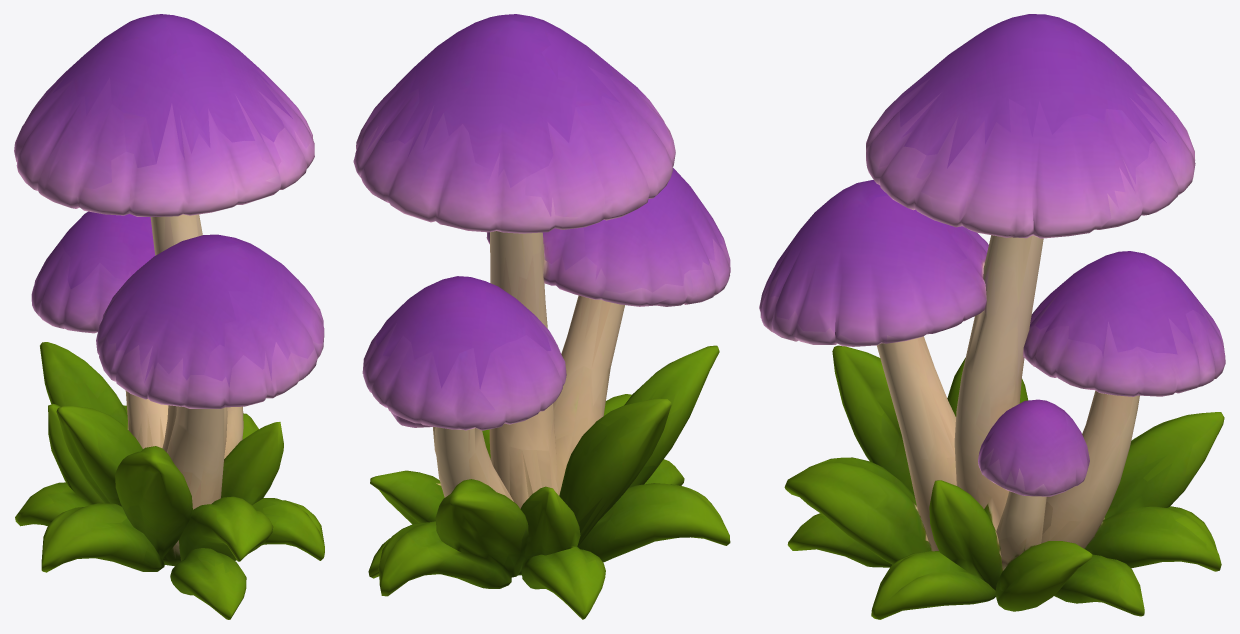
File: shroom_trio.glb
3 views of the same model, side by side, from view 1: azimuth 30°, elevation 25°; view 2: azimuth 150°, elevation 25°; view 3: azimuth 270°, elevation 25° (orthographic). The views are drawn at different scales.
Visible parts, largest first — view 1: tripo_node_9b7cfc15-bb2b-4e35-a10b-a96a65b3b9af; view 2: tripo_node_9b7cfc15-bb2b-4e35-a10b-a96a65b3b9af; view 3: tripo_node_9b7cfc15-bb2b-4e35-a10b-a96a65b3b9af.
Boxes of the visible parts, <box> form: tripo_node_9b7cfc15-bb2b-4e35-a10b-a96a65b3b9af: <box>14,14,324,619</box>; tripo_node_9b7cfc15-bb2b-4e35-a10b-a96a65b3b9af: <box>353,14,730,619</box>; tripo_node_9b7cfc15-bb2b-4e35-a10b-a96a65b3b9af: <box>759,14,1225,619</box>.
Size of the model in its own units: 0.6 by 1 by 0.7596.
Materials: 1 (1 with a texture image).
